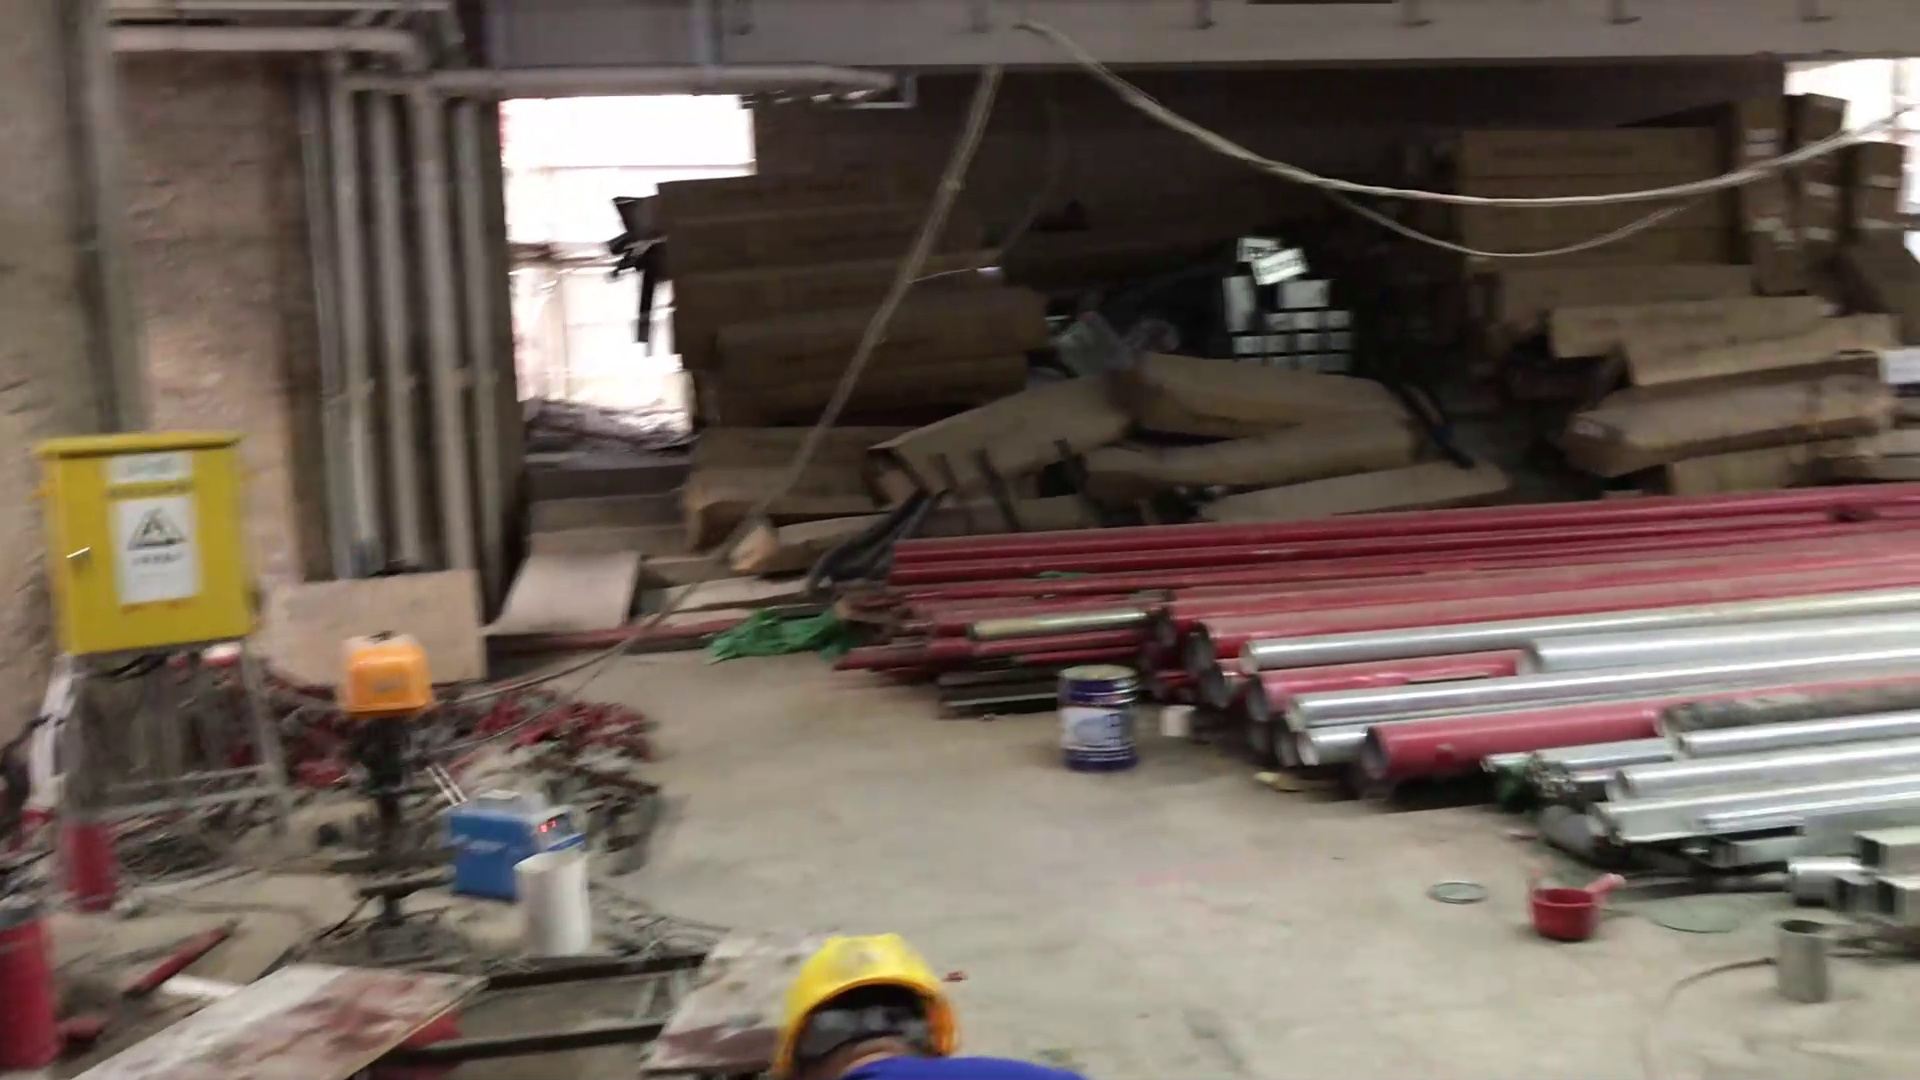ebox: (30, 402, 284, 672)
helmet: (763, 926, 980, 1078)
person: (756, 927, 1089, 1080)
